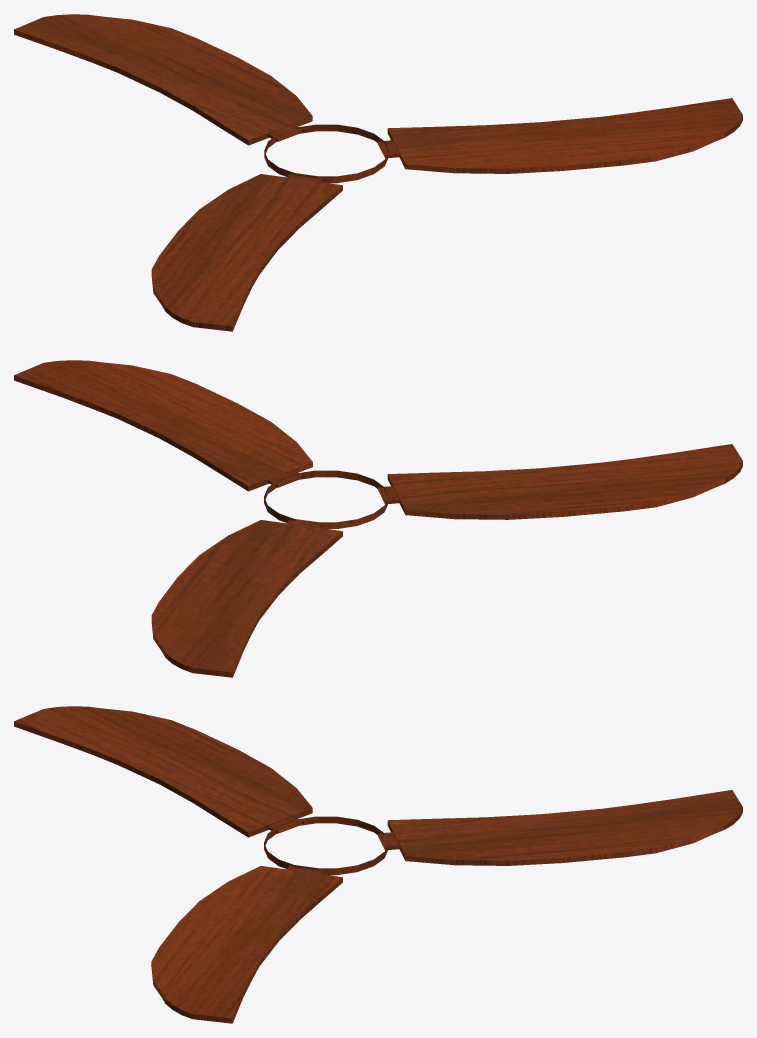
Rendered from fan2.gltf.
The picture shows the model from 3 angles, top to bottom: view 1: azimuth 30°, elevation 25°; view 2: azimuth 150°, elevation 25°; view 3: azimuth 270°, elevation 25°; orthographic projection.
Parts seen in each view (by area): view 1: model_2; view 2: model_2; view 3: model_2.
Part boxes in pixels (x1,y1,x2,y2): model_2: (14, 14, 742, 331); model_2: (14, 360, 742, 677); model_2: (14, 706, 742, 1023).
Size of the model in its own units: 3.1 by 0.0315 by 3.06.
Materials: 1 (1 with a texture image).
